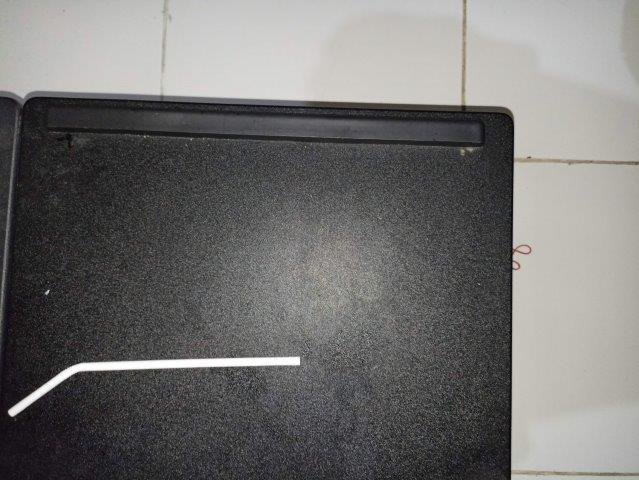karet: (513, 242, 532, 271)
sedotan: (7, 356, 301, 417)
